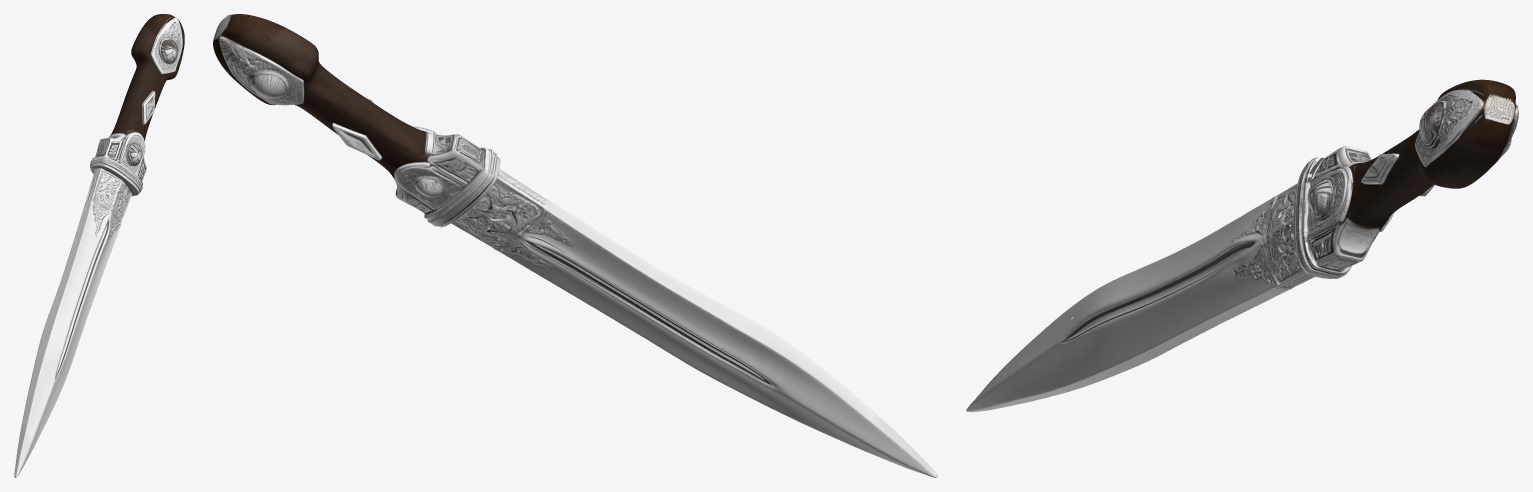
Rendered from dagger-2.glb.
3 views of the same model, side by side, from view 1: azimuth 30°, elevation 25°; view 2: azimuth 150°, elevation 25°; view 3: azimuth 270°, elevation 25° (orthographic). The views are drawn at different scales.
Bounding box in the file's own units: 1.9 × 1.84 × 1.53.
1 material, 1 textured.
